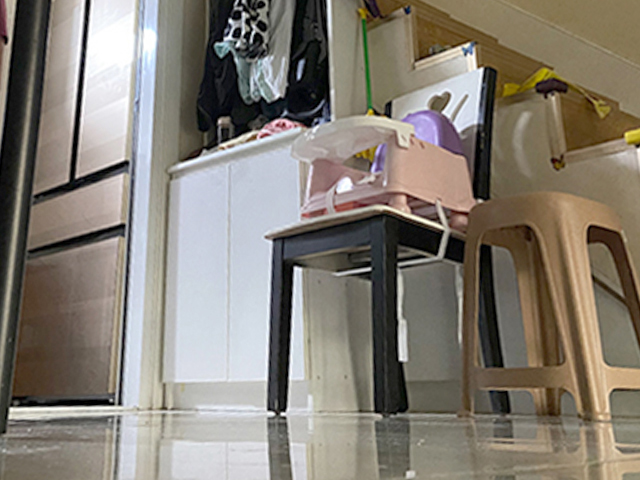cabinet: (158, 126, 354, 413)
stool: (264, 65, 512, 416), (461, 190, 640, 425)
